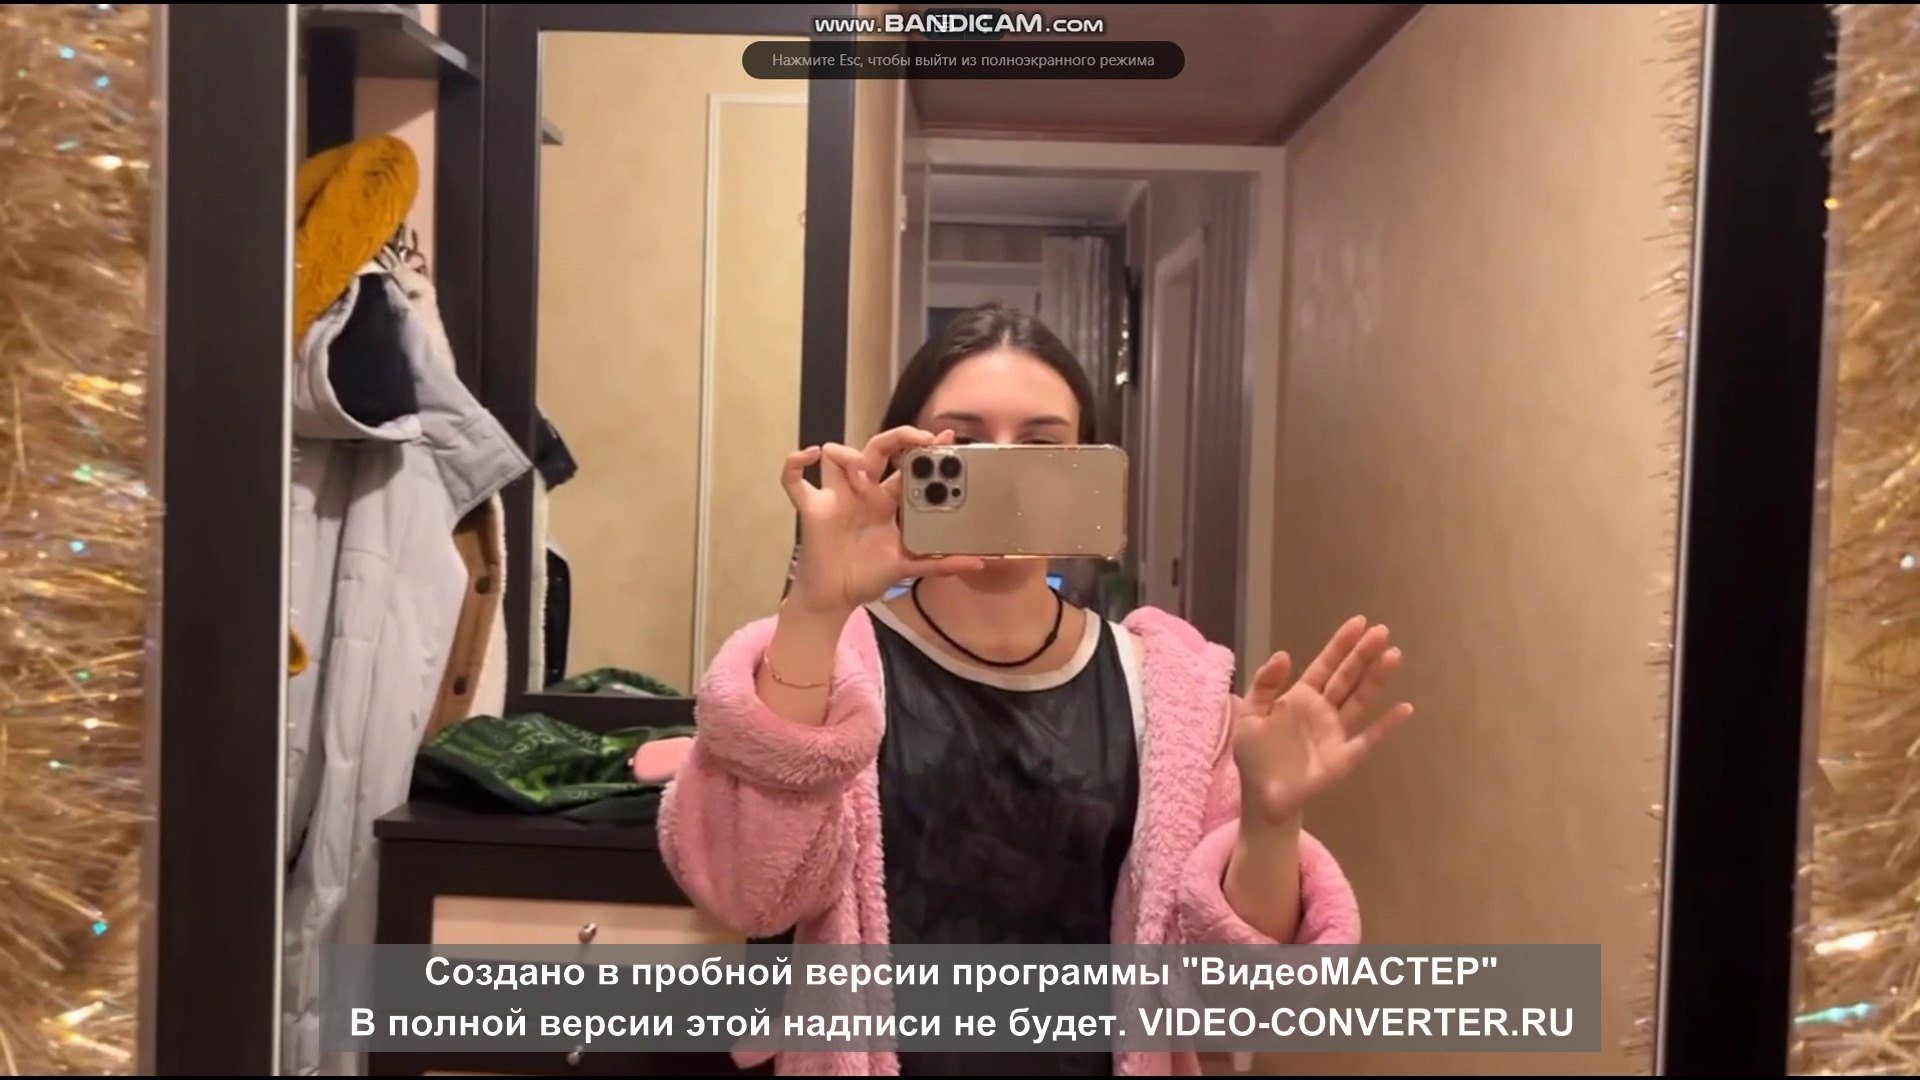Ладонь: (1232, 611, 1416, 815)
